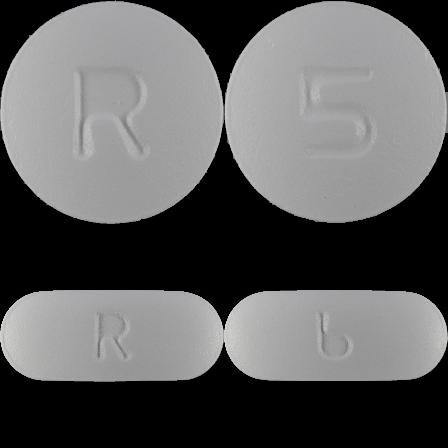54868-6341: (0, 0, 224, 224)
